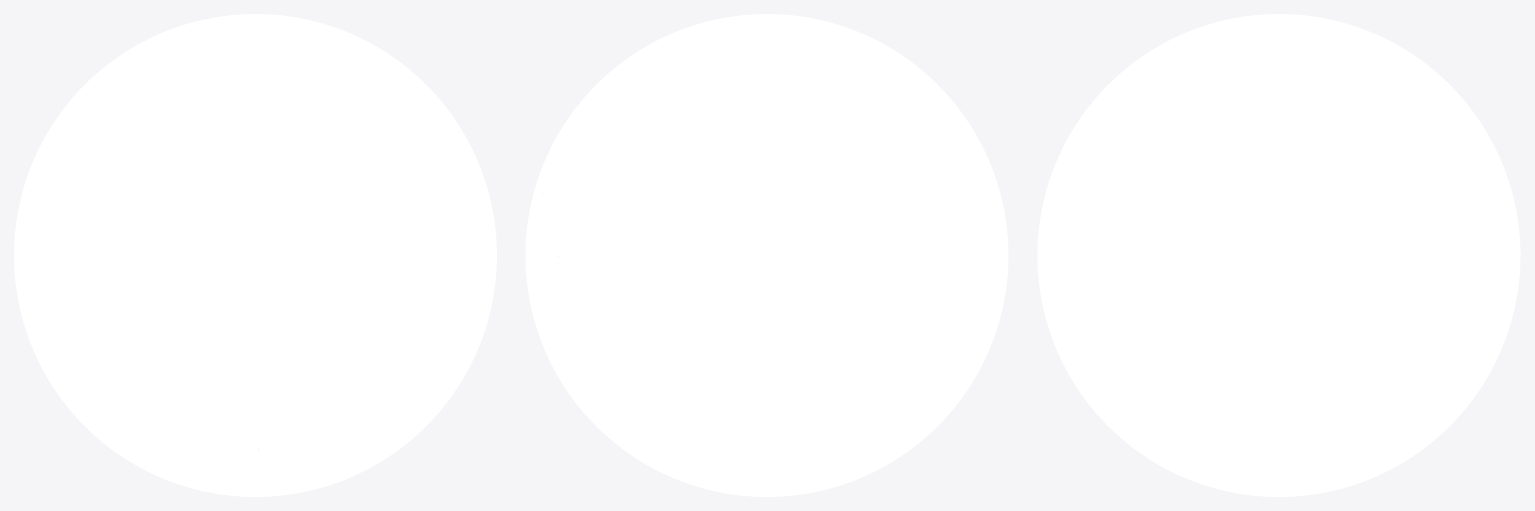
File: moon.dae
3 views of the same model, side by side, from view 1: azimuth 30°, elevation 25°; view 2: azimuth 150°, elevation 25°; view 3: azimuth 270°, elevation 25° (orthographic).
Parts seen in each view (by area): view 1: Sphere001; view 2: Sphere001; view 3: Sphere001.
Boxes of the visible parts, left/top/right/bottom form: Sphere001: left=14, top=14, right=496, bottom=496; Sphere001: left=525, top=14, right=1008, bottom=496; Sphere001: left=1037, top=14, right=1520, bottom=496.
Bounding box in the file's own units: 7000 × 7000 × 7000.
1 material, 1 textured.
